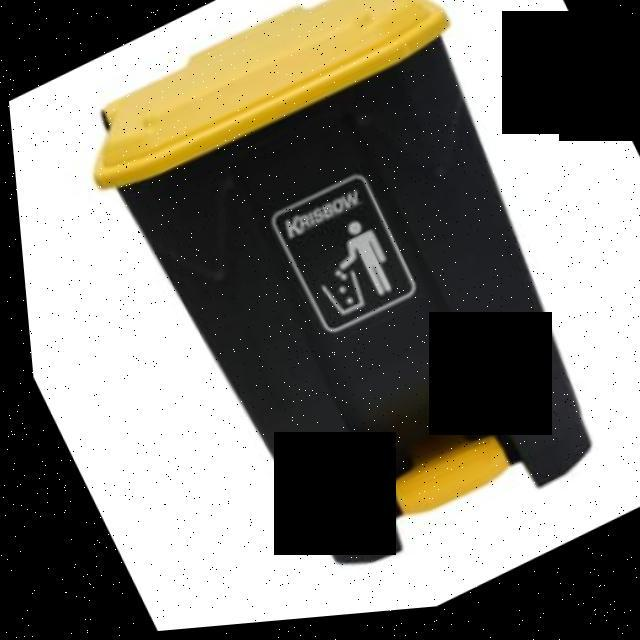bin: (42, 0, 640, 636)
